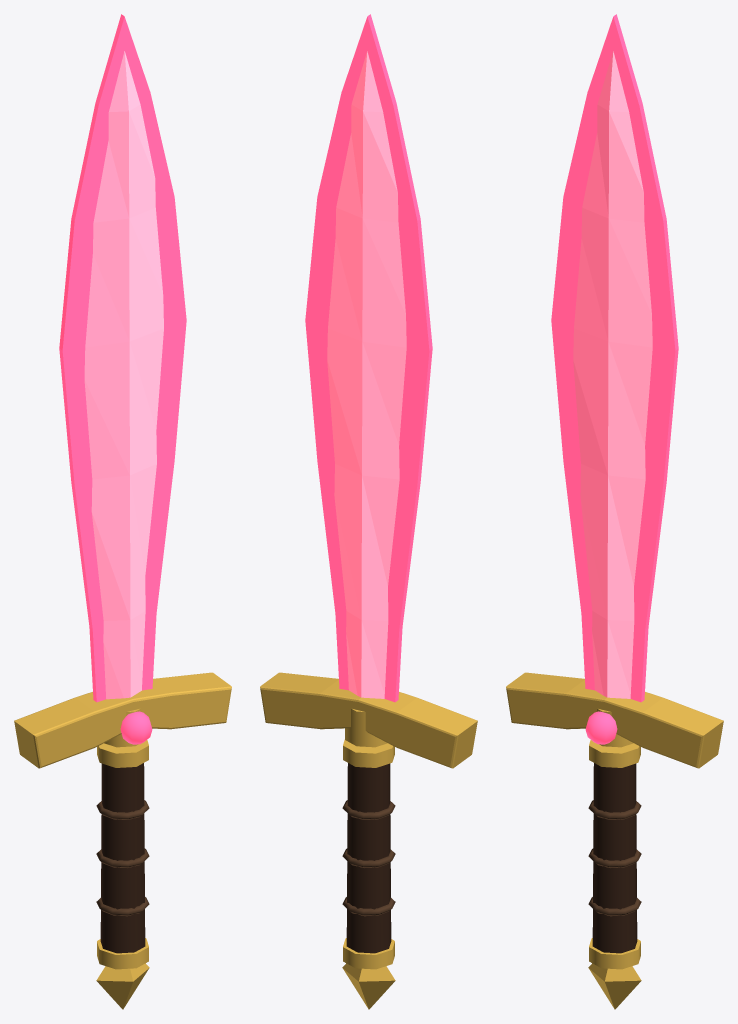
Rendered from sword_f2_dd7c6fa4.glb.
3 views of the same model, side by side, from view 1: azimuth 30°, elevation 25°; view 2: azimuth 150°, elevation 25°; view 3: azimuth 330°, elevation 25° (orthographic).
Parts seen in each view (by area): view 1: m0_ow80_, m1_gm130_, m4_ow80_, m2_ow80_, m5_ow80_, m3_gm160_; view 2: m0_ow80_, m1_gm130_, m4_ow80_, m2_ow80_, m5_ow80_; view 3: m0_ow80_, m1_gm130_, m4_ow80_, m2_ow80_, m5_ow80_, m3_gm160_.
Part boxes in pixels (x1=…): m0_ow80_: x1=84, y1=51, x2=163, y2=699; m1_gm130_: x1=59, y1=14, x2=186, y2=702; m4_ow80_: x1=14, y1=672, x2=231, y2=1009; m2_ow80_: x1=100, y1=763, x2=145, y2=953; m5_ow80_: x1=96, y1=800, x2=149, y2=916; m3_gm160_: x1=120, y1=711, x2=152, y2=744; m0_ow80_: x1=327, y1=51, x2=406, y2=698; m1_gm130_: x1=305, y1=14, x2=432, y2=702; m4_ow80_: x1=260, y1=672, x2=477, y2=1009; m2_ow80_: x1=346, y1=763, x2=391, y2=953; m5_ow80_: x1=342, y1=800, x2=395, y2=916; m0_ow80_: x1=573, y1=51, x2=652, y2=698; m1_gm130_: x1=551, y1=14, x2=678, y2=702; m4_ow80_: x1=506, y1=672, x2=723, y2=1009; m2_ow80_: x1=592, y1=763, x2=637, y2=953; m5_ow80_: x1=588, y1=800, x2=641, y2=916; m3_gm160_: x1=585, y1=711, x2=617, y2=744.
Bounding box in the file's own units: 0.3891 × 1.86 × 0.1189.
